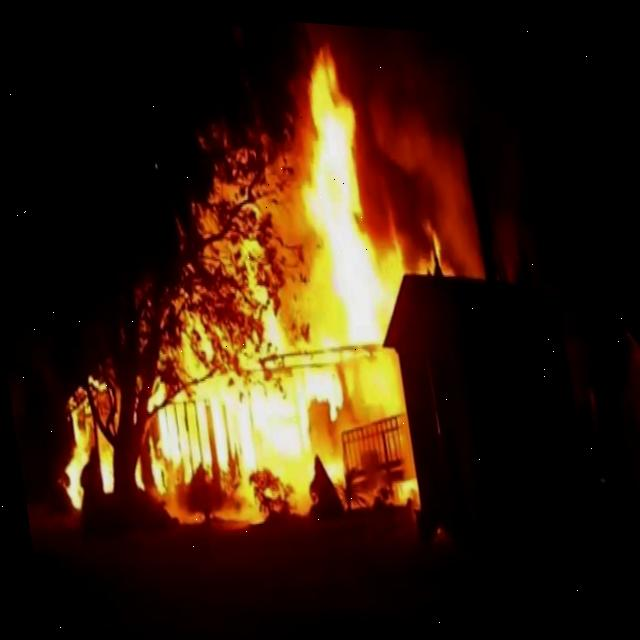fire: (68, 39, 441, 498)
smoke: (306, 21, 512, 271)
